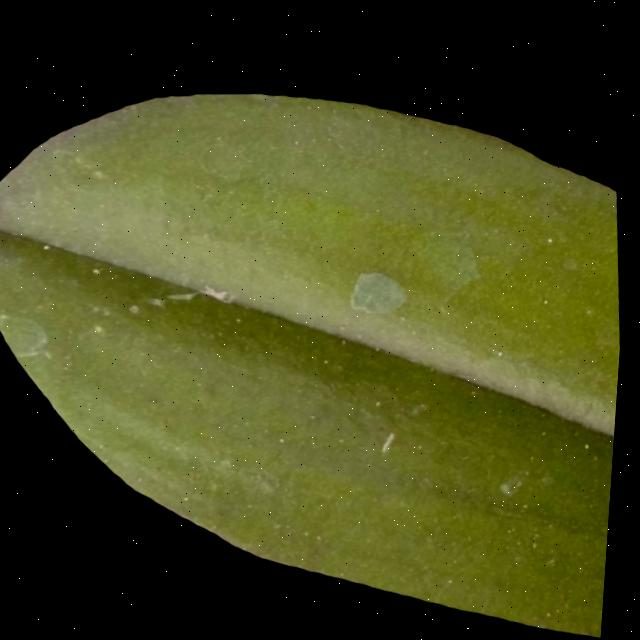mite: (497, 450, 572, 559), (502, 465, 531, 489), (562, 245, 585, 263), (538, 283, 559, 302), (543, 462, 562, 479), (129, 299, 146, 313), (534, 524, 547, 541), (93, 263, 107, 275), (545, 225, 557, 237), (543, 286, 554, 298), (586, 431, 597, 441)
spots: (0, 75, 624, 640)
